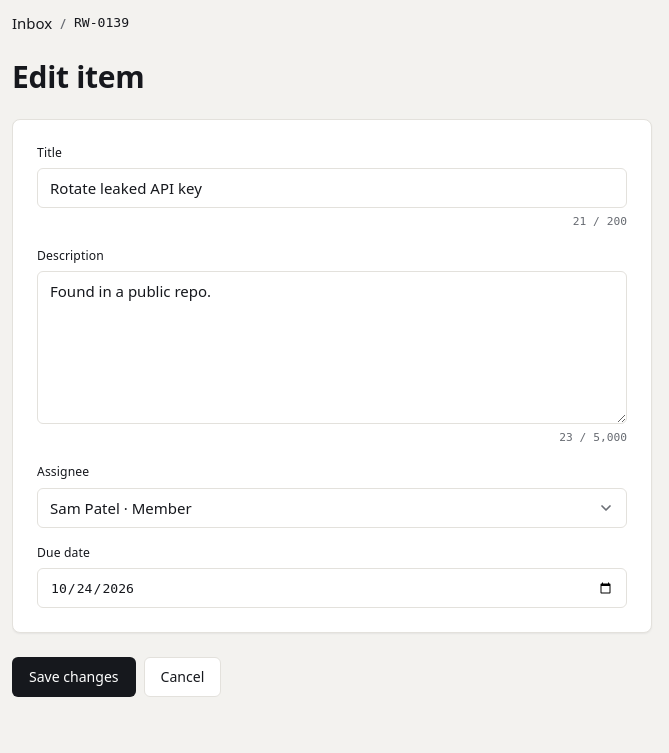
item form › on a 409 shows the conflict banner, keeps the edits, and sends the version it rendered
Replace the text in the field labelled "Title" with "Rotate key and purge history": (332, 188) [37,168,627,208]
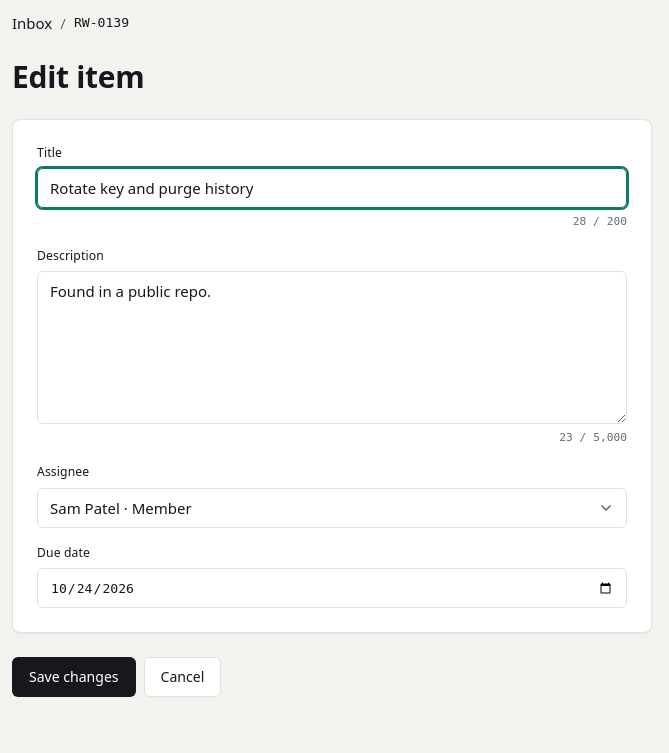
Click the button "Save changes": (74, 677) [12,657,136,697]
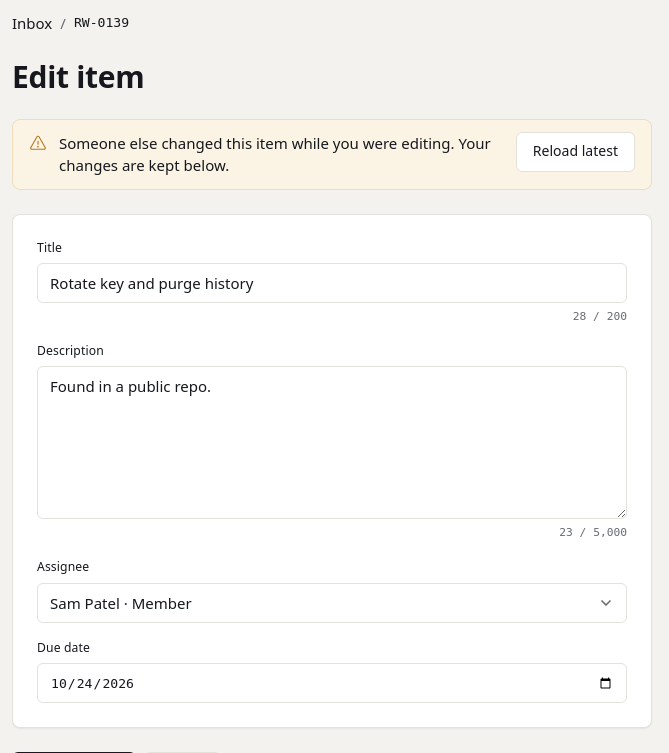
expect the text "Someone else changed this item while you were editing" is shown: met, box [59,132,491,175]
expect the button "Reload latest" is shown: met, box [516,132,635,172]
